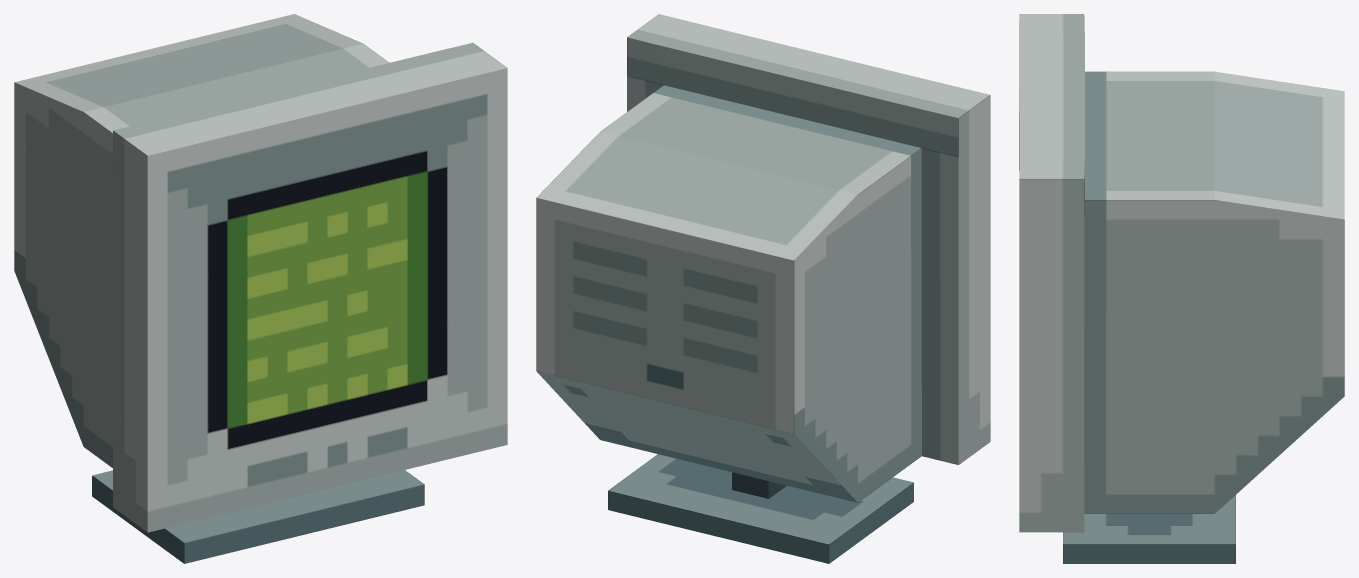
The model's file is Computer.fbx.
3 renders of one model, left to right at view 1: azimuth 30°, elevation 25°; view 2: azimuth 150°, elevation 25°; view 3: azimuth 270°, elevation 25°, orthographic. The views are drawn at different scales.
Parts seen in each view (by area): view 1: Body, Screen; view 2: Body; view 3: Body.
Boxes of the visible parts, x1,y1,x2,y2 form: Body: (14, 14, 507, 563); Screen: (227, 171, 427, 428); Body: (536, 14, 990, 563); Body: (1019, 14, 1344, 563).
Bounding box in the file's own units: 1.8 × 2.1 × 1.5.
Materials: 1 (1 with a texture image).
